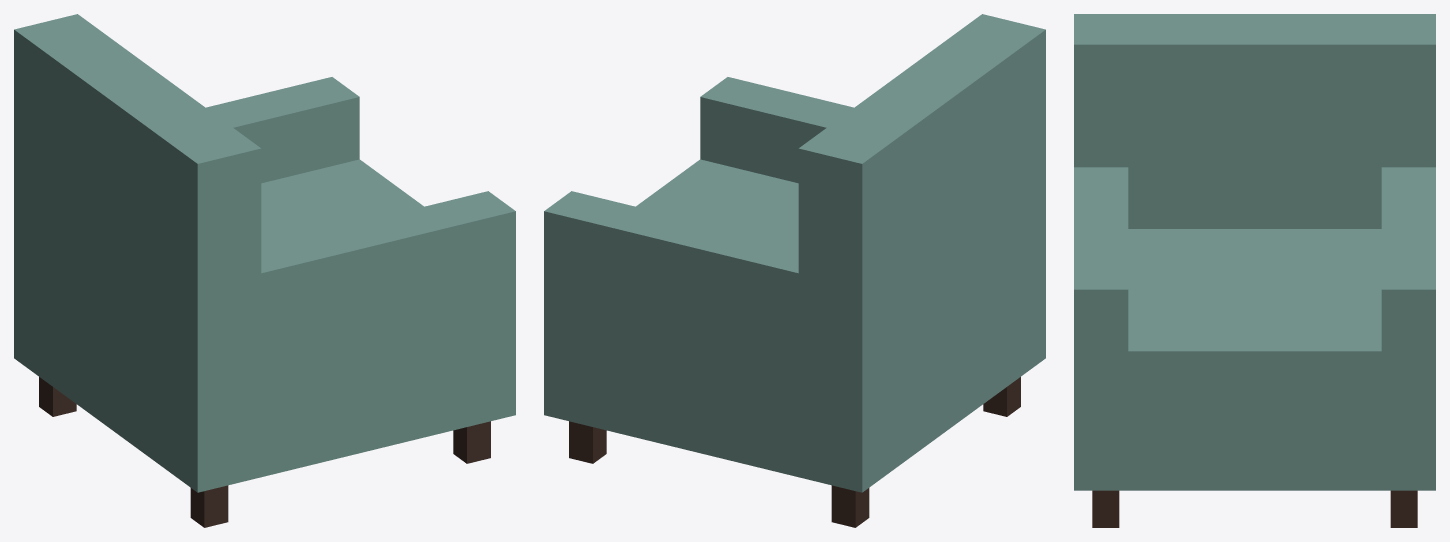
The model's file is poltrona_1975.glb.
3 views of the same model, side by side, from view 1: azimuth 30°, elevation 25°; view 2: azimuth 150°, elevation 25°; view 3: azimuth 270°, elevation 25° (orthographic).
Visible parts, largest first — view 1: Malha_0; view 2: Malha_0; view 3: Malha_0.
Part boxes in pixels (bbox=[...]): Malha_0: bbox=[14, 14, 515, 527]; Malha_0: bbox=[544, 14, 1045, 527]; Malha_0: bbox=[1074, 14, 1435, 527].
Bounding box in the file's own units: 0.8 × 0.9 × 0.8.
